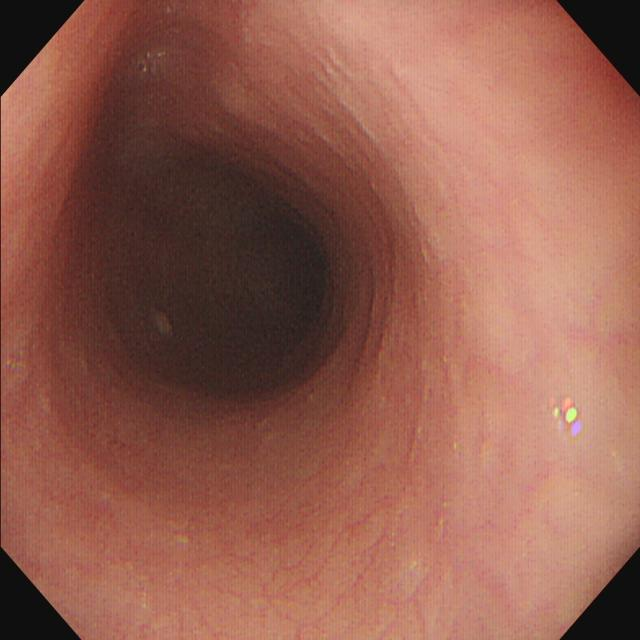E: (107, 147, 333, 390)
U: (550, 399, 585, 439)
